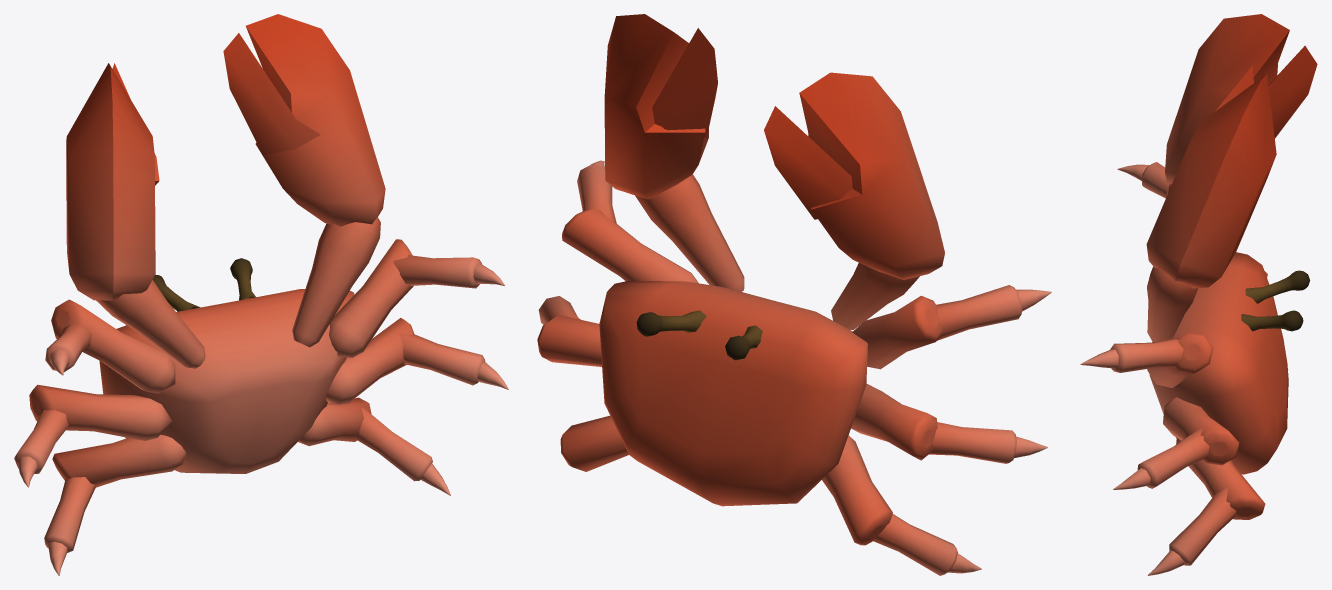
Rendered from Crab.fbx.
3 renders of one model, left to right at view 1: azimuth 30°, elevation 25°; view 2: azimuth 150°, elevation 25°; view 3: azimuth 270°, elevation 25°, orthographic. The views are drawn at different scales.
Parts seen in each view (by area): view 1: _CrabLeg1; view 2: _CrabLeg1; view 3: _CrabLeg1.
Boxes of the visible parts, x1=… form: _CrabLeg1: x1=14, y1=14, x2=508, y2=575; _CrabLeg1: x1=537, y1=14, x2=1051, y2=575; _CrabLeg1: x1=1080, y1=14, x2=1317, y2=575.
Bounding box in the file's own units: 328 × 319 × 154.
